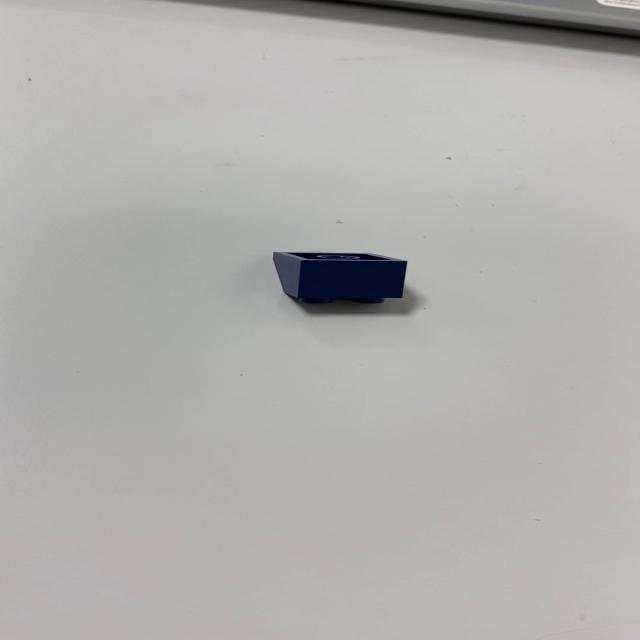P2x2x1: (271, 250, 408, 304)
